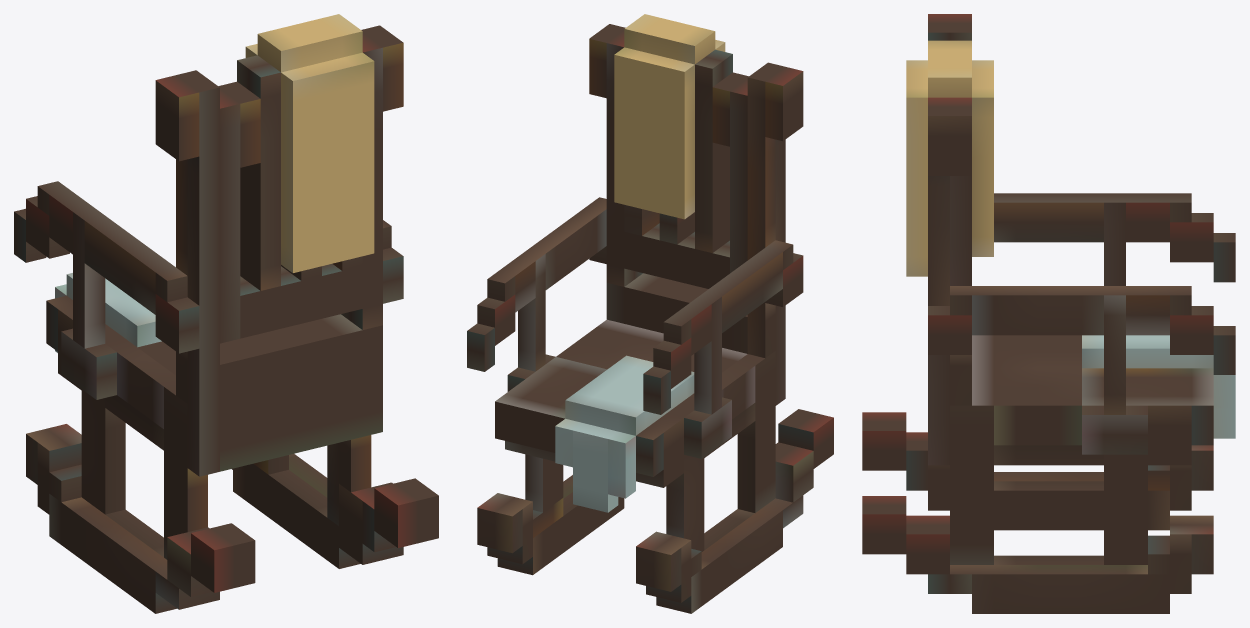
Rendered from RockingChairWithCloths_00.fbx.
The picture shows the model from 3 angles, left to right: view 1: azimuth 30°, elevation 25°; view 2: azimuth 150°, elevation 25°; view 3: azimuth 270°, elevation 25°; orthographic projection. The views are drawn at different scales.
Parts seen in each view (by area): view 1: RockingChairWithCloths_00; view 2: RockingChairWithCloths_00; view 3: RockingChairWithCloths_00.
Boxes of the visible parts, x1,y1,x2,y2 form: RockingChairWithCloths_00: (14,14,438,613); RockingChairWithCloths_00: (467,14,833,613); RockingChairWithCloths_00: (862,14,1235,613).
Bounding box in the file's own units: 55 × 85 × 130.
Materials: 1 (1 with a texture image).
